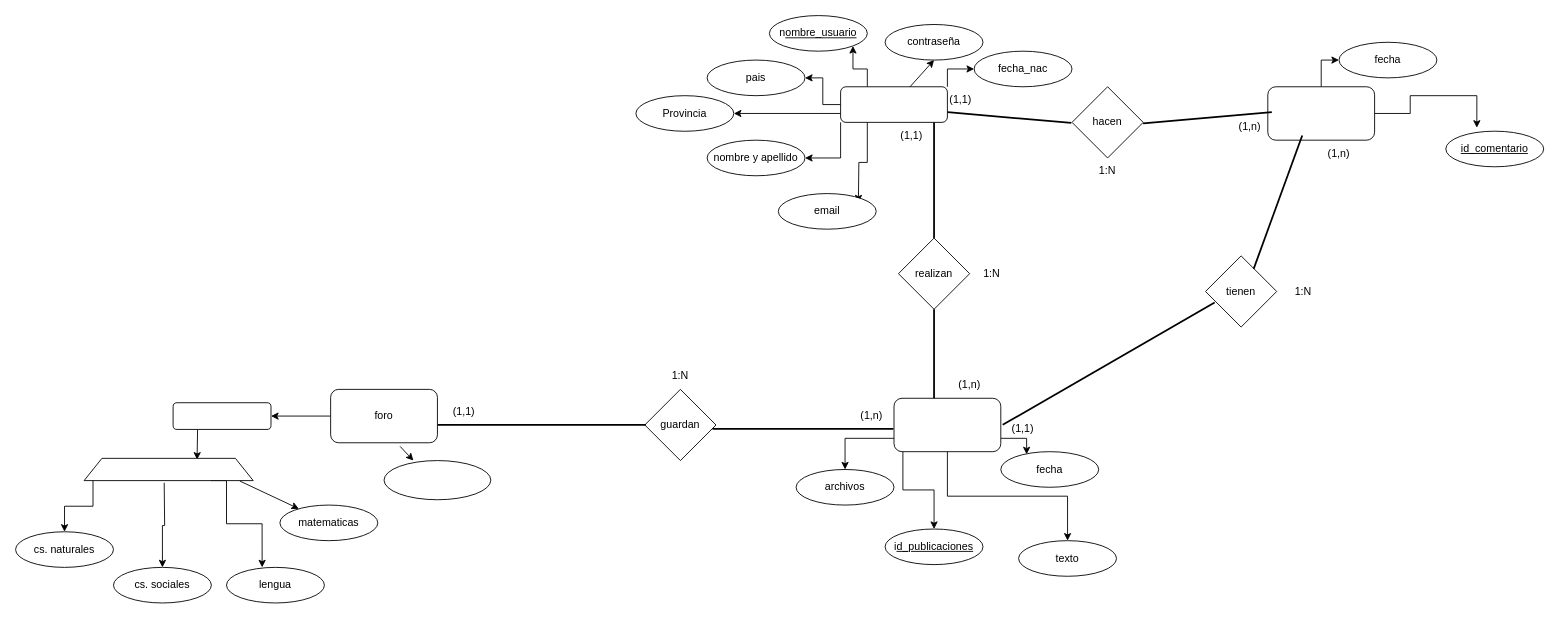
The diagram is 1559 pixels wide and 619 high, and some of its shapes have lost their labels. The centre of each missing label's shape, as x and y in pixels:
"comentarios" belongs at (x=1321, y=113).
"id-foro" belongs at (x=437, y=480).
"materias" belongs at (x=168, y=469).
"publicaciones" belongs at (x=947, y=424).
"Temas" belongs at (x=221, y=415).
"Usuario" belongs at (x=893, y=104).
